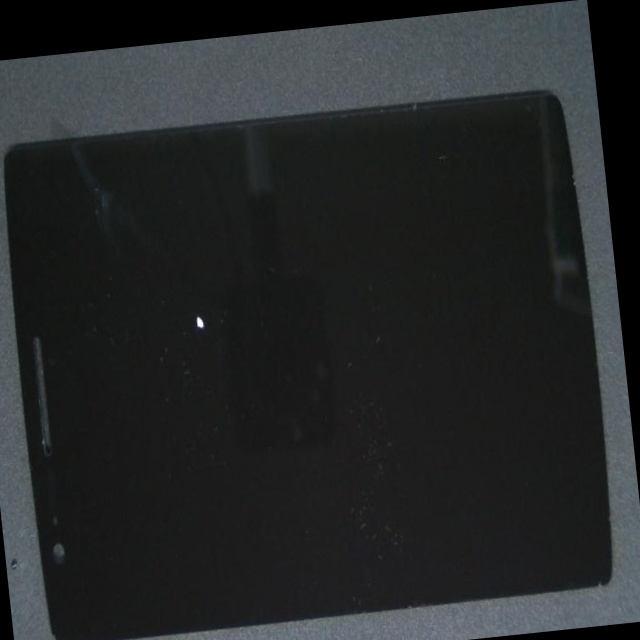stain: (80, 130, 302, 432)
